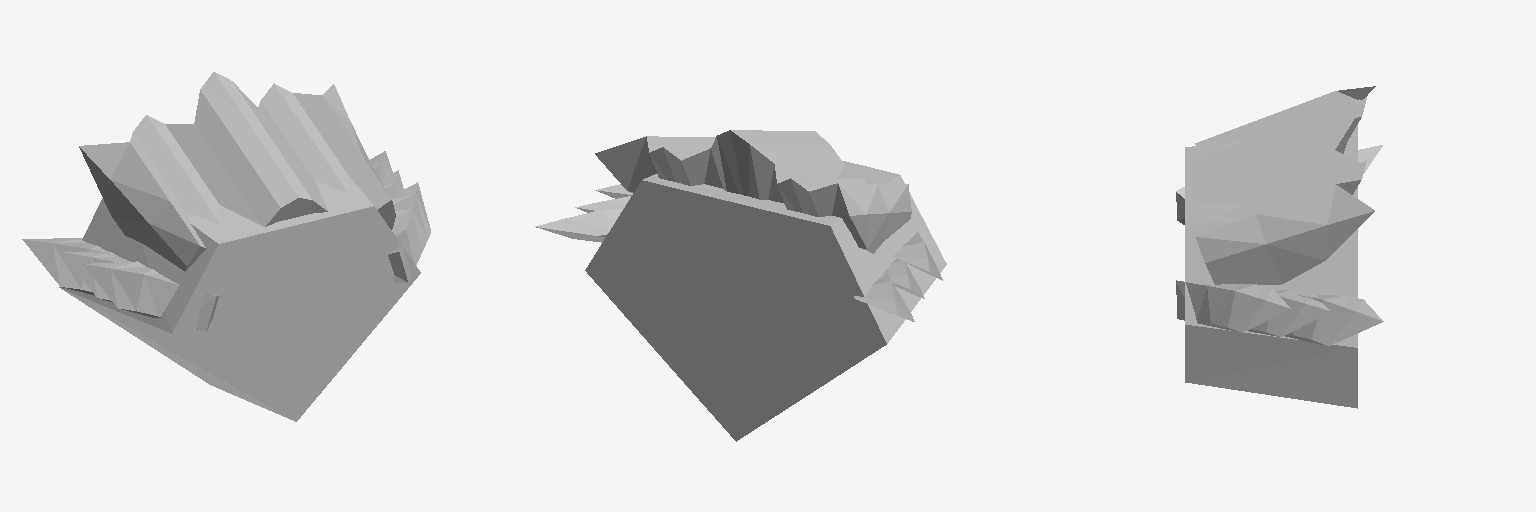
File: Tail4.obj
3 renders of one model, left to right at view 1: azimuth 30°, elevation 25°; view 2: azimuth 150°, elevation 25°; view 3: azimuth 270°, elevation 25°, orthographic.
Visible parts, largest first — view 1: 立方体.022; view 2: 立方体.022; view 3: 立方体.022.
Part boxes in pixels (x1,y1,x2,y2): 立方体.022: (22,72,430,421); 立方体.022: (535,130,946,441); 立方体.022: (1176,86,1383,408).
Size of the model in its own units: 1.7 by 1.4 by 0.8448.